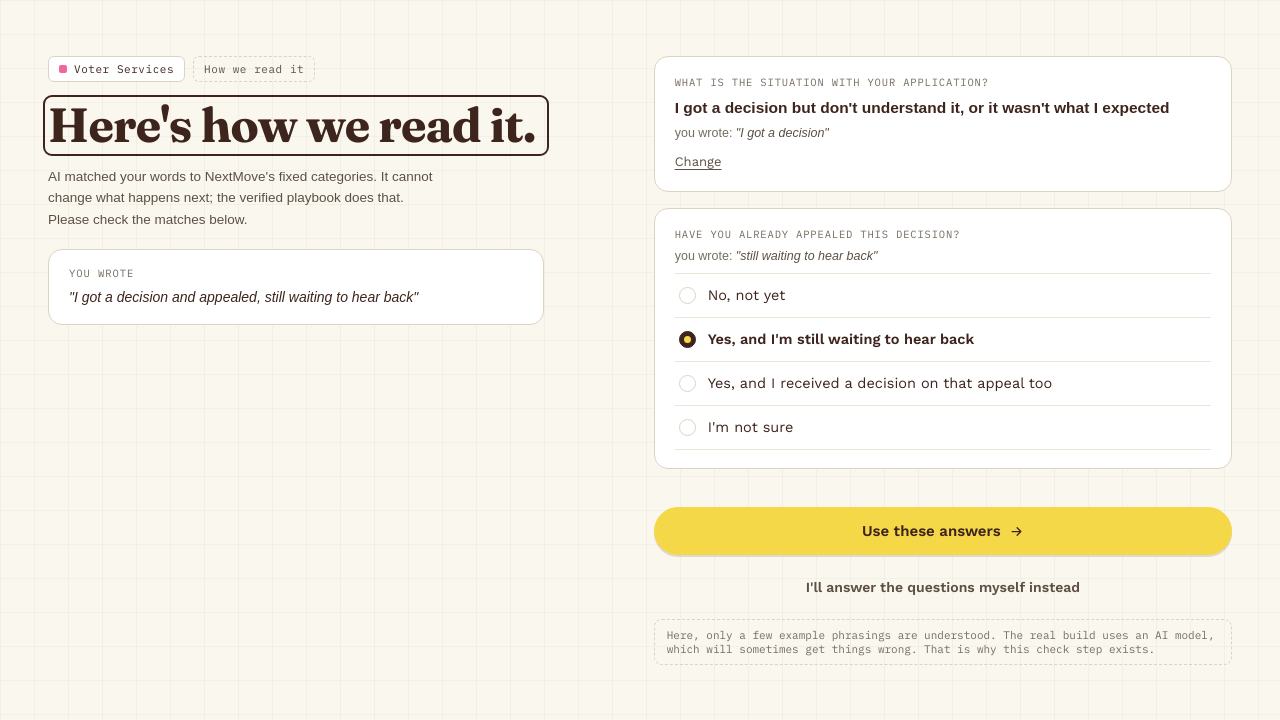
it: branch pruning after a repick — AC-AI-3's own named live assertion › an interpretation with voterQ1:decision and voterAppealedRaw:pending, repicked to voterQ1:no_word, renders one card and the discard note appears
Expected: the number of elements with class "read-card" is 2, [654,56,1232,192]; [654,208,1232,470]
// voterQ1 is chain[0] for 'voter-q1' — seen, closed by default.
Click the button "Change". click: (698, 162)
box: [675,150,722,174]
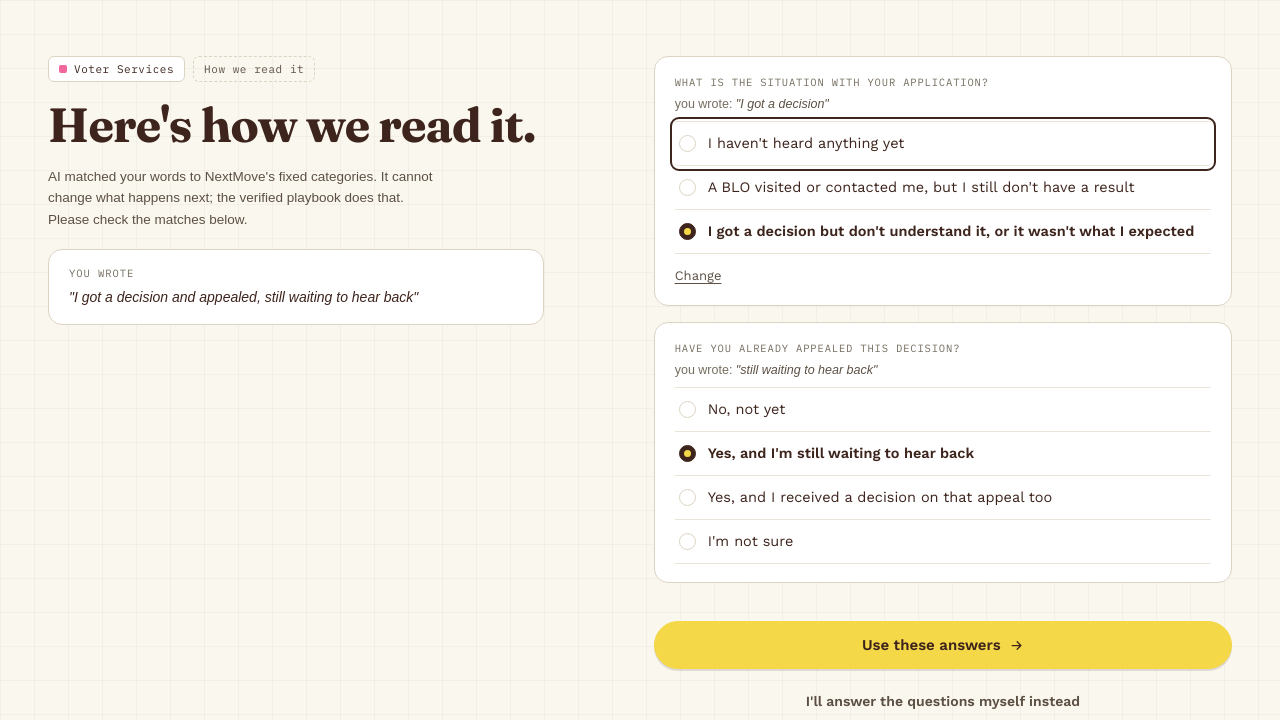
Click the button "I haven't heard anything yet". click: (806, 144)
box: [675,122,1211,166]
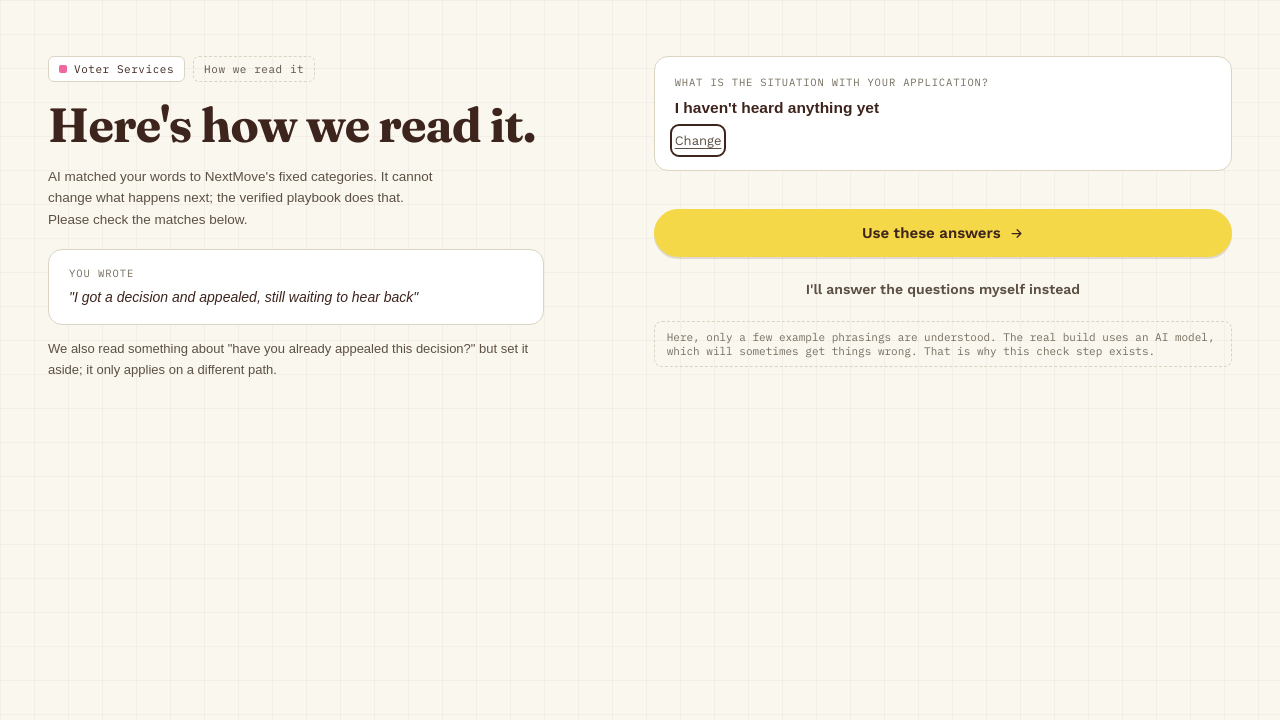
Now the number of elements with class "read-card" is 1, box [654,56,1232,172]
